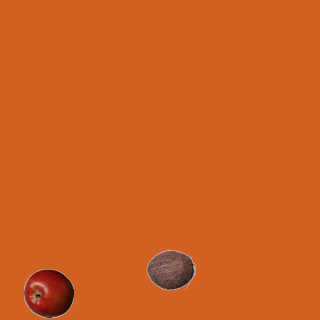Apple Braeburn: (23, 268, 73, 318)
Cocos: (145, 244, 195, 294)
